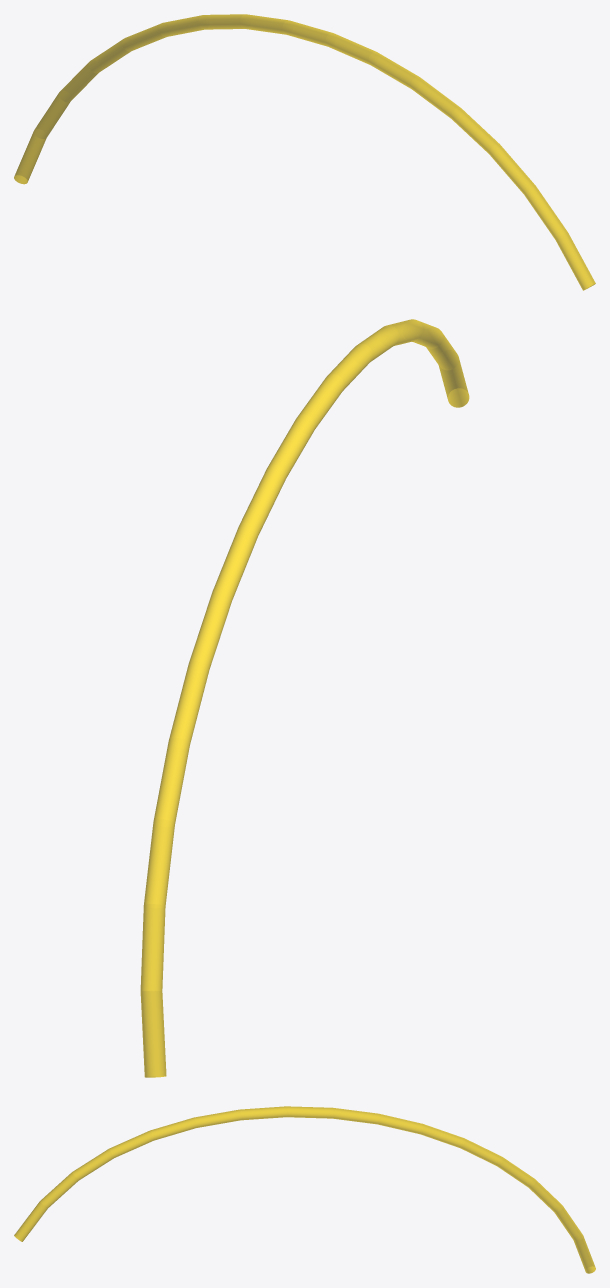
The model's file is Event_84804159_track_35.fbx.
3 views of the same model, one above another, from view 1: azimuth 30°, elevation 25°; view 2: azimuth 150°, elevation 25°; view 3: azimuth 270°, elevation 25° (orthographic). The views are drawn at different scales.
Visible parts, largest first — view 1: Model; view 2: Model; view 3: Model.
Part boxes in pixels (left/top/right/bottom): Model: left=14, top=14, right=595, bottom=290; Model: left=140, top=319, right=469, bottom=1077; Model: left=14, top=1106, right=595, bottom=1273.
Size of the model in its own units: 0.6095 by 0.8244 by 2.13.
